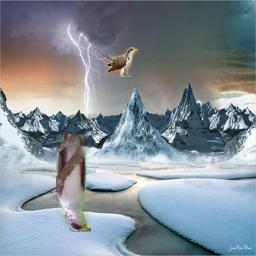Cuckoo: (56, 134, 91, 232), (95, 45, 138, 77)
